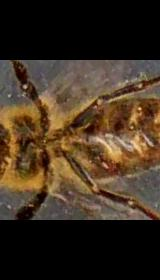varroa_mite: (96, 148, 118, 179)
